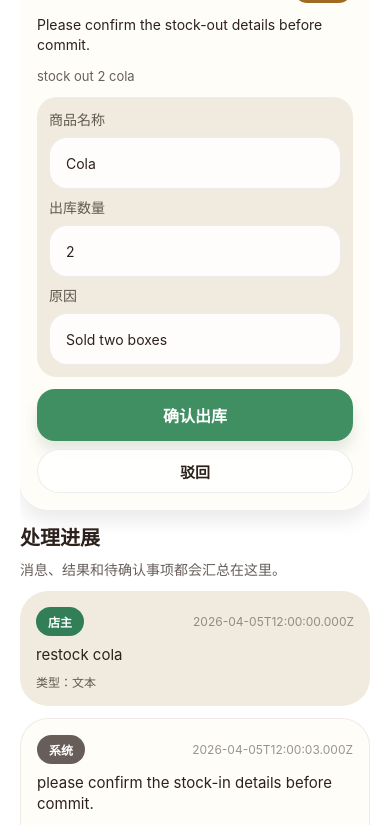
it: ChatScreen › renders a pending stock-out confirmation card and approves it from chat
The width and height of the screenshot is (390, 825).
(page scrolled)
expect the field showing "2" is shown: met, box [49,225,341,277]
Click the button with test id "confirm-approve-conf_stock_out_1". click: (195, 415)
box: [37,389,353,441]
(page scrolled)
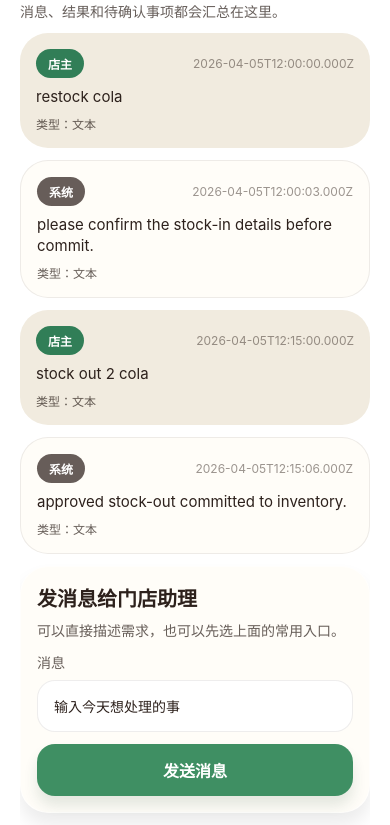
expect the text "approved stock-out committed to inventory." is shown: met, box [37,491,353,512]
